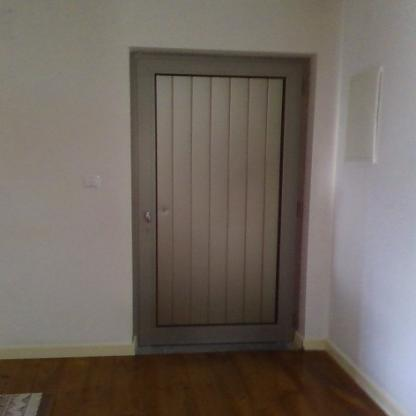door: (134, 52, 297, 342)
hinged: (300, 76, 307, 96), (292, 312, 298, 330), (296, 200, 301, 218)
knob: (144, 206, 155, 226)
